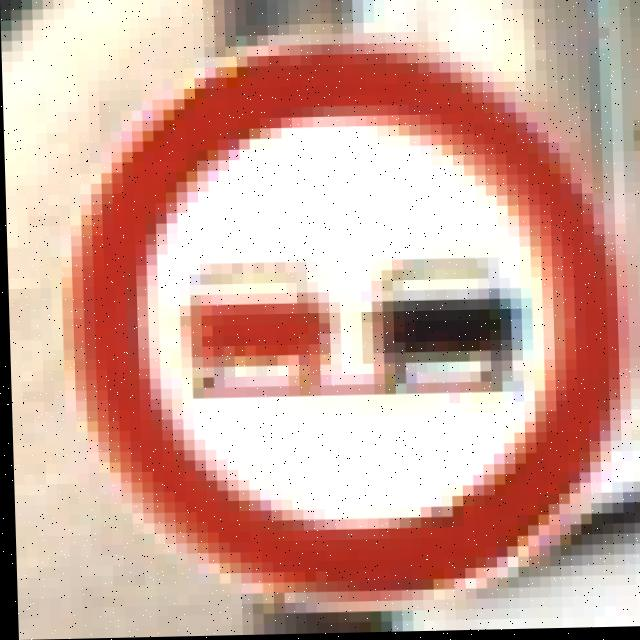no_overtaking: (111, 70, 607, 632)
